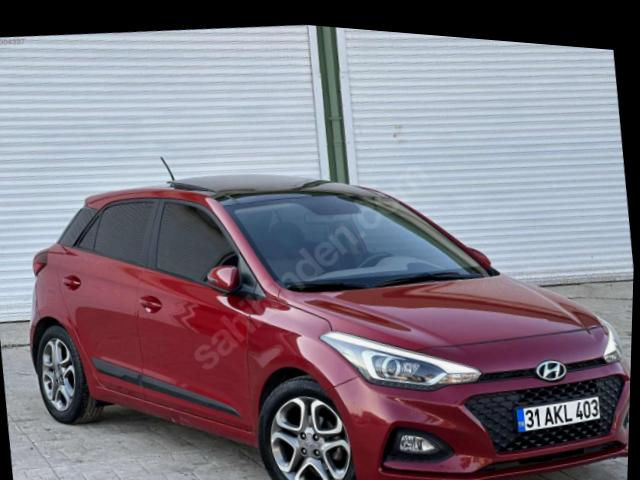plaka: (514, 395, 600, 432)
